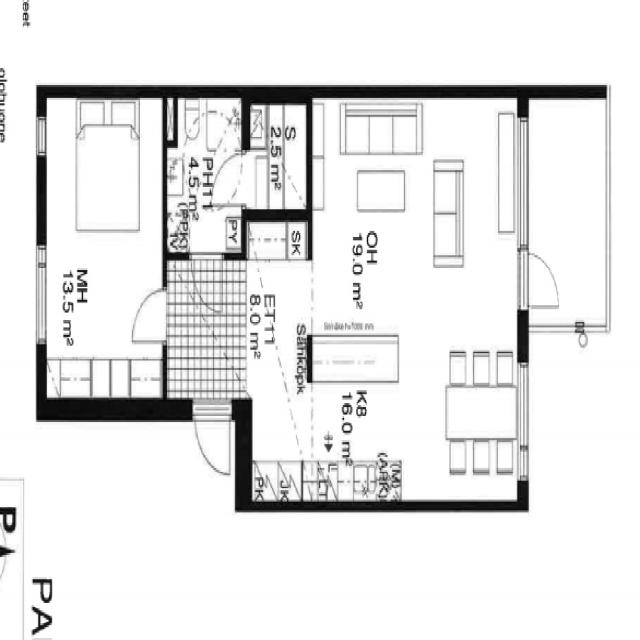door: (192, 402, 234, 481), (519, 244, 563, 314), (128, 280, 171, 350), (209, 147, 248, 210), (0, 550, 8, 590)
window: (509, 106, 536, 258), (513, 353, 535, 486), (32, 239, 51, 351), (526, 314, 584, 340), (513, 243, 532, 320), (303, 255, 319, 343), (34, 112, 49, 163), (516, 442, 532, 486)
zone: (39, 92, 164, 404), (312, 103, 467, 326), (524, 91, 610, 330), (164, 254, 253, 408), (166, 95, 246, 254), (445, 348, 520, 484), (245, 100, 309, 214)
